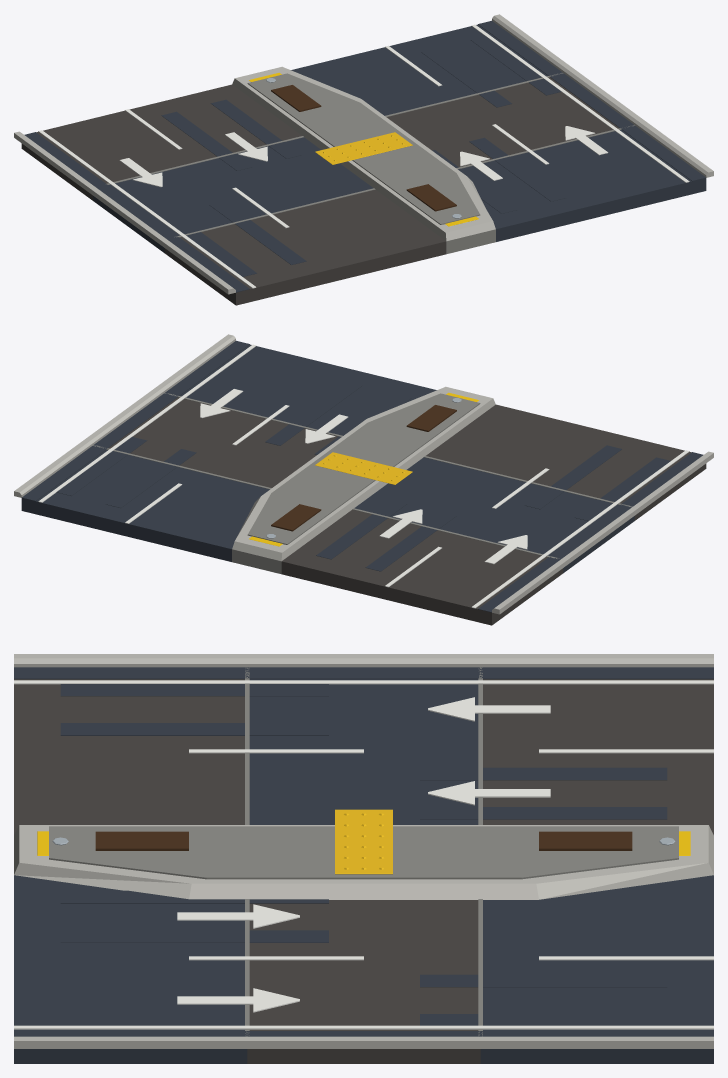
Rendered from ROAD_14.obj.
3 views of the same model, one above another, from view 1: azimuth 30°, elevation 25°; view 2: azimuth 150°, elevation 25°; view 3: azimuth 270°, elevation 25° (orthographic). The views are drawn at different scales.
Parts seen in each view (by area): view 1: ROAD_14__surface, ROAD_14__markings, ROAD_14__wear, ROAD_14__island_deck, ROAD_14__curb, ROAD_14__island_curb, ROAD_14__seams, ROAD_14__refuge_crossing, ROAD_14__refuge_bed, ROAD_14__median_base; view 2: ROAD_14__surface, ROAD_14__markings, ROAD_14__wear, ROAD_14__island_deck, ROAD_14__curb, ROAD_14__island_curb, ROAD_14__seams, ROAD_14__refuge_crossing, ROAD_14__refuge_bed, ROAD_14__median_base; view 3: ROAD_14__surface, ROAD_14__markings, ROAD_14__wear, ROAD_14__island_deck, ROAD_14__curb, ROAD_14__island_curb, ROAD_14__refuge_bed, ROAD_14__refuge_crossing, ROAD_14__seams.
Part boxes in pixels (x1=…): ROAD_14__surface: x1=21, y1=24, x2=706, y2=305; ROAD_14__markings: x1=24, y1=20, x2=705, y2=292; ROAD_14__wear: x1=161, y1=36, x2=566, y2=276; ROAD_14__island_deck: x1=247, y1=73, x2=480, y2=224; ROAD_14__curb: x1=14, y1=14, x2=713, y2=294; ROAD_14__island_curb: x1=232, y1=66, x2=495, y2=241; ROAD_14__seams: x1=106, y1=73, x2=634, y2=237; ROAD_14__refuge_crossing: x1=315, y1=132, x2=412, y2=164; ROAD_14__refuge_bed: x1=271, y1=85, x2=456, y2=211; ROAD_14__median_base: x1=446, y1=229, x2=495, y2=254; ROAD_14__surface: x1=21, y1=344, x2=706, y2=625; ROAD_14__markings: x1=22, y1=340, x2=703, y2=612; ROAD_14__wear: x1=56, y1=382, x2=670, y2=571; ROAD_14__island_deck: x1=247, y1=393, x2=480, y2=544; ROAD_14__curb: x1=14, y1=334, x2=713, y2=614; ROAD_14__island_curb: x1=232, y1=386, x2=495, y2=561; ROAD_14__seams: x1=93, y1=393, x2=632, y2=558; ROAD_14__refuge_crossing: x1=315, y1=452, x2=412, y2=484; ROAD_14__refuge_bed: x1=271, y1=405, x2=456, y2=531; ROAD_14__median_base: x1=232, y1=549, x2=281, y2=574; ROAD_14__surface: x1=14, y1=679, x2=713, y2=1063; ROAD_14__markings: x1=14, y1=667, x2=713, y2=1036; ROAD_14__wear: x1=60, y1=684, x2=667, y2=1025; ROAD_14__island_deck: x1=49, y1=826, x2=678, y2=879; ROAD_14__curb: x1=14, y1=654, x2=713, y2=1048; ROAD_14__island_curb: x1=14, y1=825, x2=713, y2=899; ROAD_14__refuge_bed: x1=95, y1=831, x2=632, y2=850; ROAD_14__refuge_crossing: x1=335, y1=809, x2=392, y2=874; ROAD_14__seams: x1=245, y1=667, x2=482, y2=1036.
Bounding box in the file's own units: 15.7 × 0.69 × 12.
